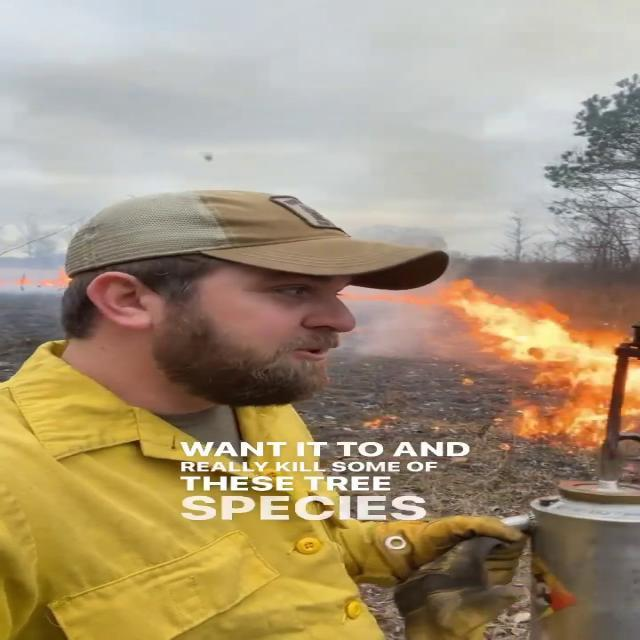Fire: (409, 279, 640, 446)
